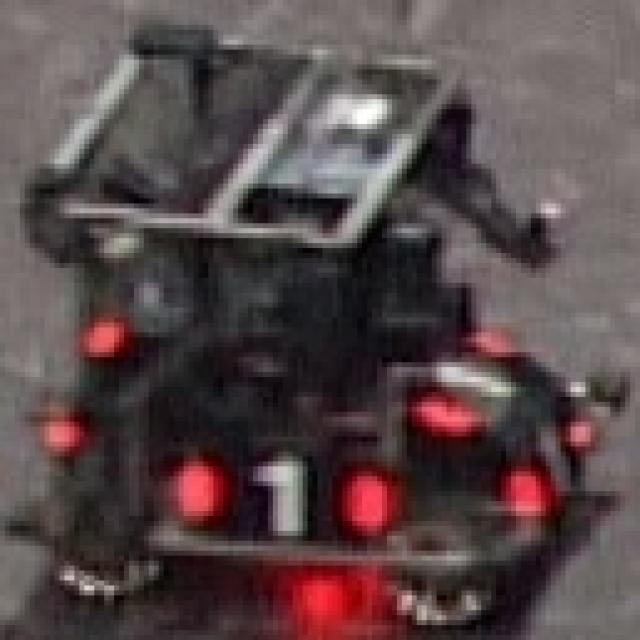R1: (174, 451, 392, 536), (412, 322, 526, 442), (506, 417, 595, 521)
